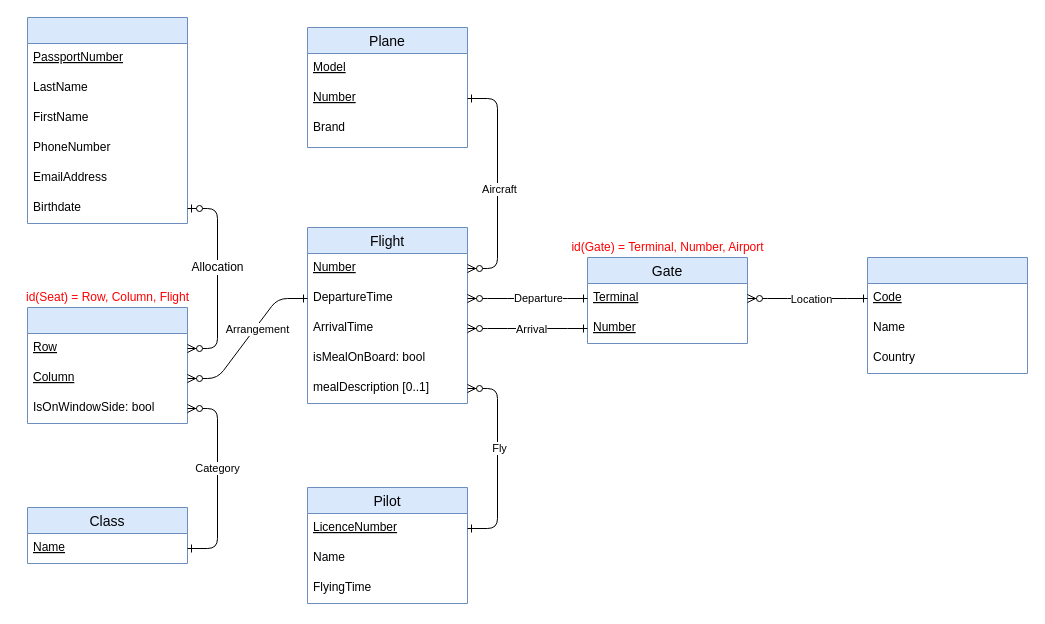
Image size: 1045x624. Some labels were removed from this diagram. Each missing label, with the box of its shape:
Airport: (866, 256, 1028, 374)
Passenger: (26, 16, 188, 224)
Seat: (26, 306, 188, 424)
